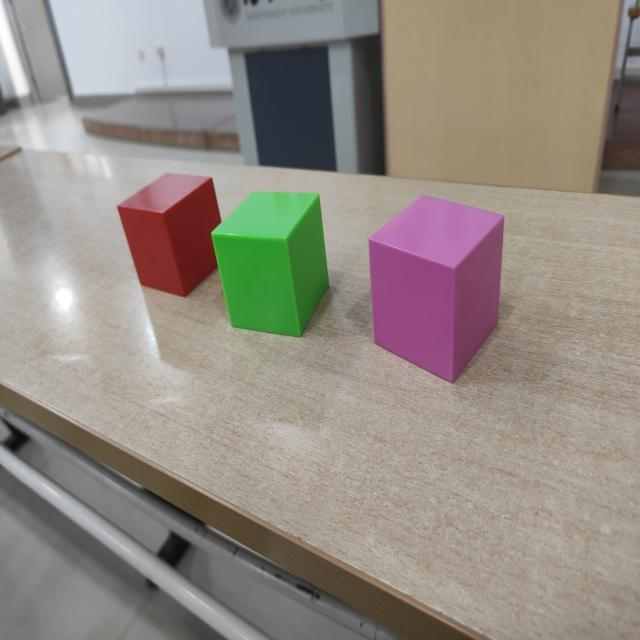green: (210, 192, 329, 338)
pink: (367, 196, 506, 385)
red: (117, 175, 223, 298)
